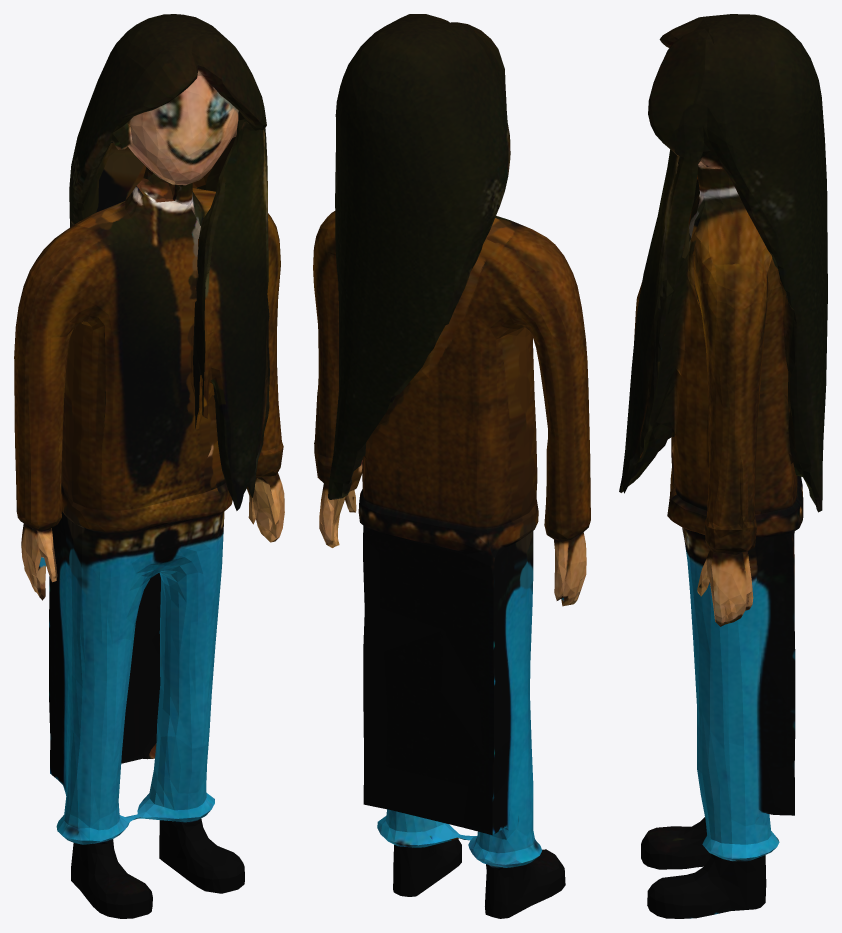
Rendered from person.glb.
3 renders of one model, left to right at view 1: azimuth 30°, elevation 25°; view 2: azimuth 150°, elevation 25°; view 3: azimuth 270°, elevation 25°, orthographic. The views are drawn at different scales.
Visible parts, largest first — view 1: geometry_0; view 2: geometry_0; view 3: geometry_0.
Boxes of the visible parts, box(x1,y1,x2,y2) form: geometry_0: box(14, 14, 284, 918); geometry_0: box(313, 14, 590, 918); geometry_0: box(619, 14, 827, 918).
Size of the model in its own units: 0.3256 by 1 by 0.2154.
1 material, 1 textured.
